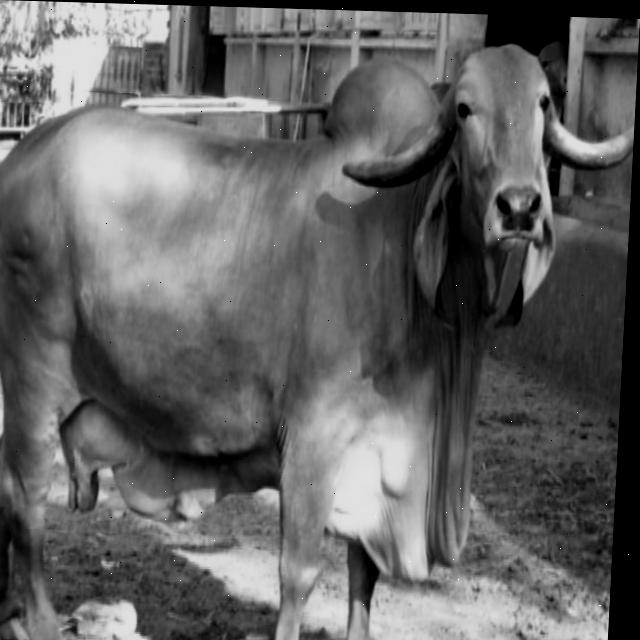Cow: (0, 25, 636, 640)
